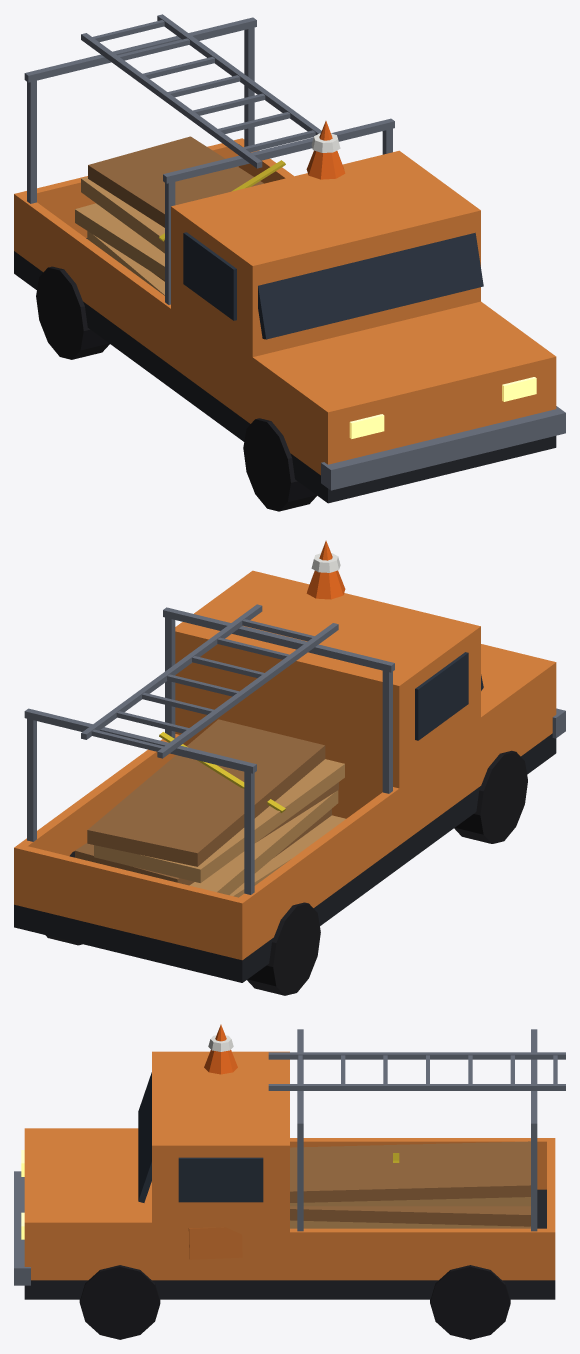
Rendered from builder_van.glb.
The picture shows the model from 3 angles, top to bottom: view 1: azimuth 30°, elevation 25°; view 2: azimuth 150°, elevation 25°; view 3: azimuth 270°, elevation 25°; orthographic projection. The views are drawn at different scales.
Parts seen in each view (by area): view 1: body_builder_orange, body_truck_glass, bed_builder_orange, wheels_tire, body_car_black, rack_car_grey, ladder_car_grey, load_bridge_grain, body_car_grey, load_bridge_pine, lights_lamp, cone_cone_orange; view 2: body_builder_orange, bed_builder_orange, load_bridge_grain, body_car_black, load_bridge_pine, rack_car_grey, wheels_tire, ladder_car_grey, body_truck_glass, cone_cone_orange; view 3: body_builder_orange, bed_builder_orange, load_bridge_grain, wheels_tire, body_car_black, body_truck_glass, ladder_car_grey, load_bridge_pine, rack_car_grey, body_builder_dent, body_car_grey, cone_cone_orange.
Boxes of the visible parts, x1=… form: body_builder_orange: x1=171, y1=150, x2=556, y2=475; body_truck_glass: x1=183, y1=232, x2=483, y2=339; bed_builder_orange: x1=14, y1=138, x2=293, y2=365; wheels_tire: x1=36, y1=266, x2=316, y2=511; body_car_black: x1=14, y1=238, x2=556, y2=503; rack_car_grey: x1=24, y1=17, x2=394, y2=304; ladder_car_grey: x1=81, y1=14, x2=321, y2=168; load_bridge_grain: x1=88, y1=136, x2=263, y2=281; body_car_grey: x1=321, y1=406, x2=565, y2=490; load_bridge_pine: x1=75, y1=177, x2=164, y2=295; lights_lamp: x1=349, y1=377, x2=536, y2=438; cone_cone_orange: x1=306, y1=121, x2=345, y2=179; body_builder_orange: x1=175, y1=570, x2=556, y2=824; bed_builder_orange: x1=14, y1=734, x2=427, y2=960; load_bridge_grain: x1=75, y1=719, x2=338, y2=885; body_car_black: x1=14, y1=733, x2=556, y2=982; load_bridge_pine: x1=94, y1=759, x2=345, y2=897; rack_car_grey: x1=24, y1=607, x2=394, y2=894; wheels_tire: x1=45, y1=750, x2=527, y2=995; ladder_car_grey: x1=81, y1=604, x2=338, y2=758; body_truck_glass: x1=415, y1=652, x2=483, y2=740; cone_cone_orange: x1=306, y1=540, x2=345, y2=599; body_builder_orange: x1=24, y1=1051, x2=289, y2=1280; bed_builder_orange: x1=242, y1=1138, x2=555, y2=1280; load_bridge_grain: x1=290, y1=1141, x2=530, y2=1228; wheels_tire: x1=79, y1=1265, x2=510, y2=1339; body_car_black: x1=24, y1=1189, x2=555, y2=1299; body_truck_glass: x1=138, y1=1072, x2=263, y2=1202; ladder_car_grey: x1=268, y1=1052, x2=565, y2=1090; load_bridge_pine: x1=290, y1=1197, x2=530, y2=1228; rack_car_grey: x1=297, y1=1029, x2=537, y2=1231; body_builder_dent: x1=188, y1=1227, x2=242, y2=1259; body_car_grey: x1=14, y1=1171, x2=30, y2=1285; cone_cone_orange: x1=204, y1=1024, x2=237, y2=1074.
Bounding box in the file's own units: 2.23 × 2.78 × 5.2.
